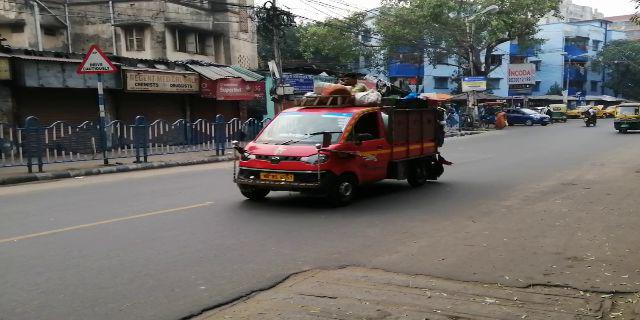Autorickshaw: (611, 99, 640, 138)
Minitruck: (236, 97, 452, 205)
